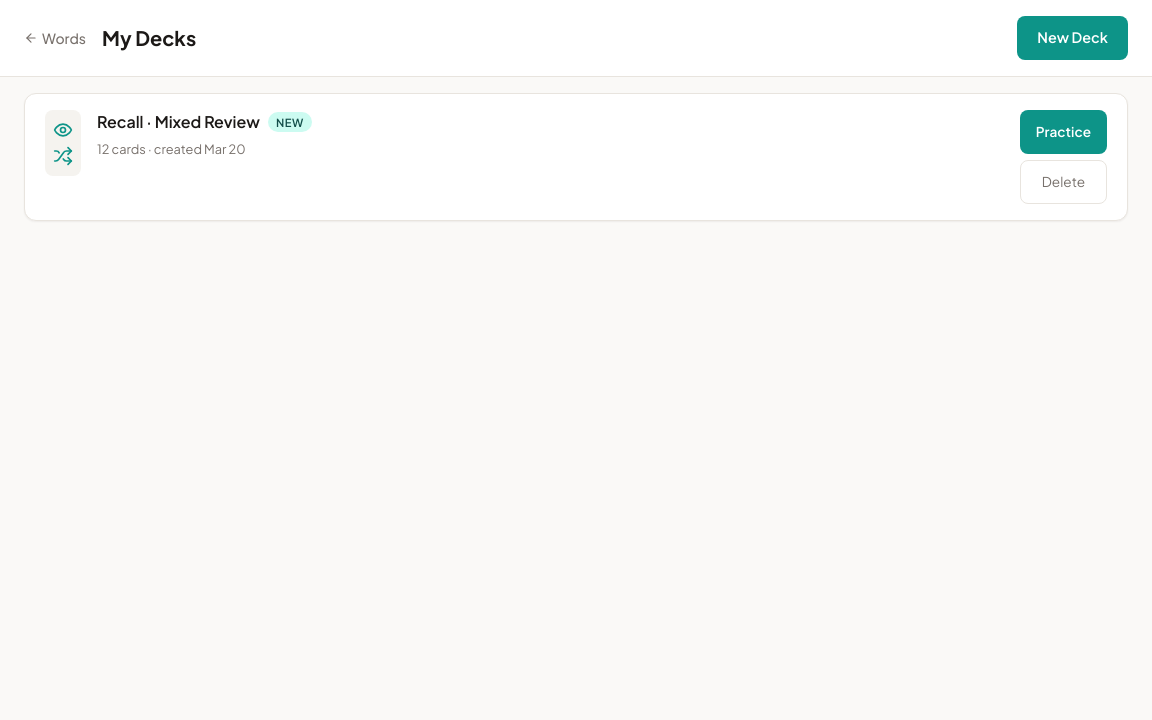
Test case: FlashcardDecks — create panel › closes on the Close button
Check: the text "Recall · Mixed Review" is shown, box [97,110,260,134]
Click the button "New Deck": (1073, 38) [1017,16,1128,60]
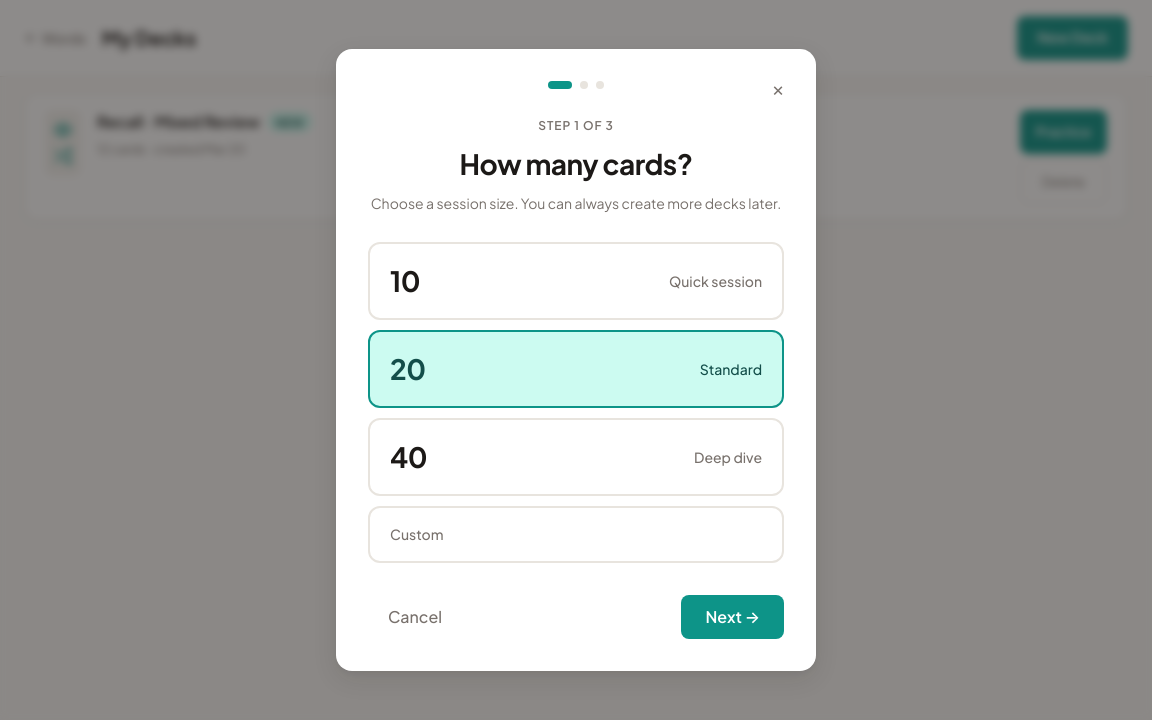
Click the button named "Close": (778, 87) [756,65,800,109]
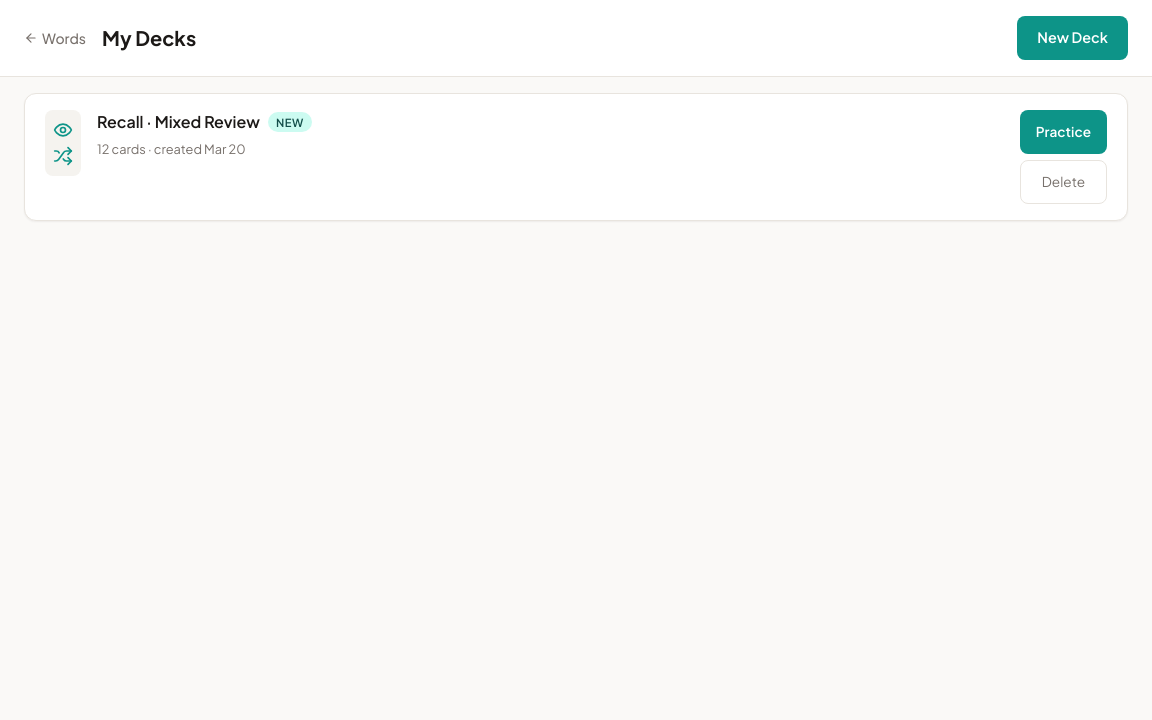
Check: the dialog is gone
